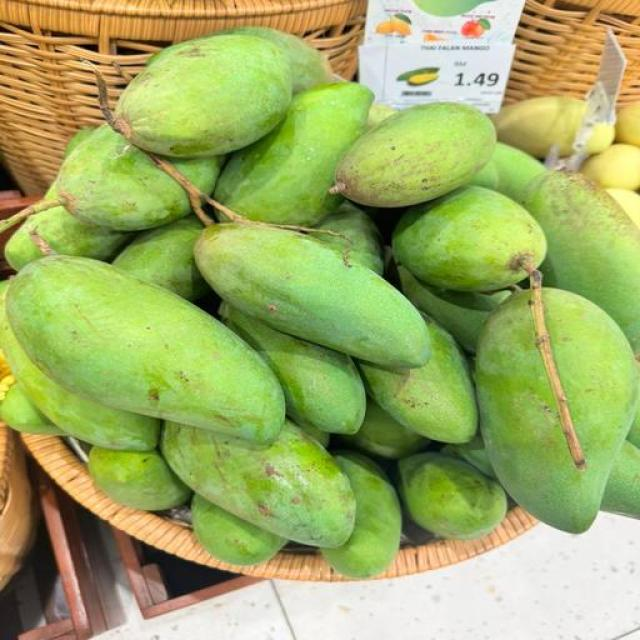organic: (7, 257, 284, 442), (475, 288, 638, 532), (195, 224, 429, 366), (163, 422, 354, 547), (215, 83, 373, 226), (117, 34, 292, 157), (0, 318, 159, 451), (524, 172, 639, 352), (220, 304, 366, 433), (335, 103, 496, 207), (393, 187, 546, 292), (359, 319, 477, 442), (57, 125, 191, 231), (148, 27, 333, 93), (322, 452, 401, 578), (399, 267, 509, 353), (399, 453, 507, 539), (5, 207, 131, 271), (5, 207, 127, 271), (113, 217, 208, 299), (220, 27, 333, 93), (192, 494, 286, 566), (88, 447, 191, 511), (493, 95, 588, 158), (340, 399, 428, 458), (315, 202, 383, 274), (345, 200, 406, 269), (490, 143, 546, 202), (0, 383, 64, 434), (600, 442, 639, 518), (582, 144, 639, 191), (442, 437, 496, 478), (414, 0, 492, 17), (64, 127, 96, 158), (469, 159, 498, 191), (297, 420, 329, 448), (368, 103, 396, 128), (0, 278, 12, 332), (397, 68, 439, 81), (628, 403, 639, 447), (407, 73, 438, 86), (629, 408, 639, 446), (462, 20, 484, 37), (0, 279, 9, 313), (394, 13, 412, 24), (478, 19, 492, 29)
